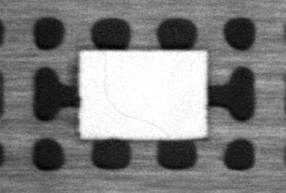DIE_CRACK: (102, 52, 167, 136)
